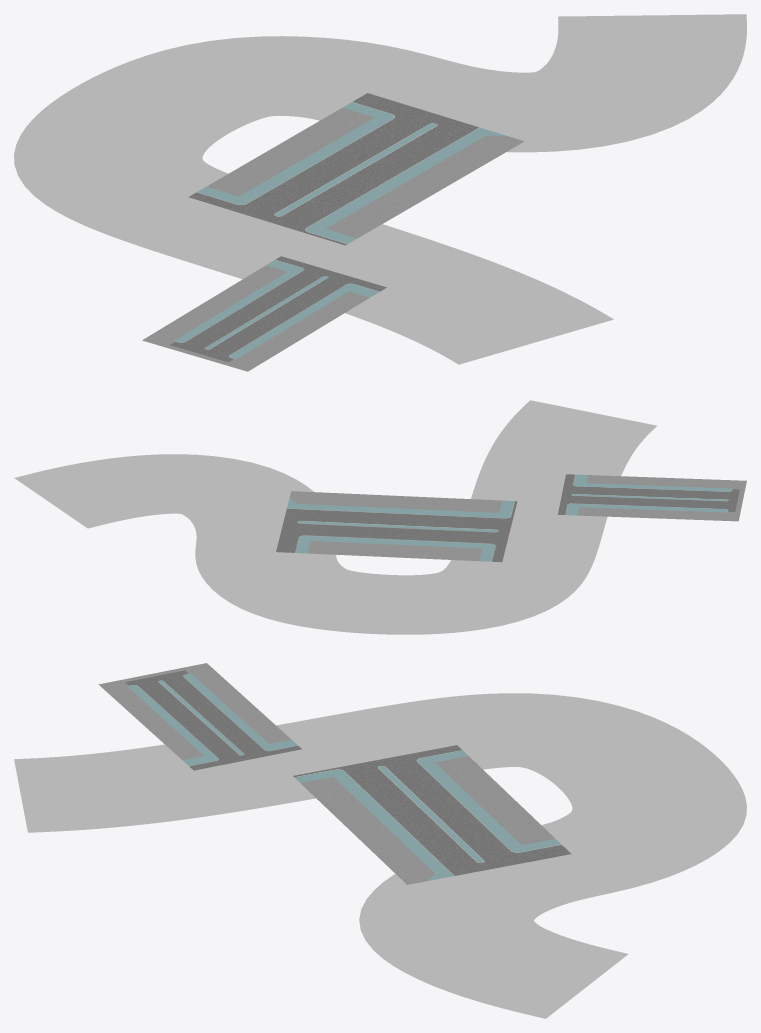
The model's file is Ground_Road02.fbx.
3 renders of one model, top to bottom at view 1: azimuth 30°, elevation 25°; view 2: azimuth 150°, elevation 25°; view 3: azimuth 270°, elevation 25°, orthographic. The views are drawn at different scales.
Visible parts, largest first — view 1: Plane.011; view 2: Plane.011; view 3: Plane.011.
Part boxes in pixels (bbox=[...]): Plane.011: bbox=[14, 14, 746, 371]; Plane.011: bbox=[14, 400, 746, 634]; Plane.011: bbox=[14, 663, 746, 1018].
Bounding box in the file's own units: 7253 × 0.00103 × 6312.
